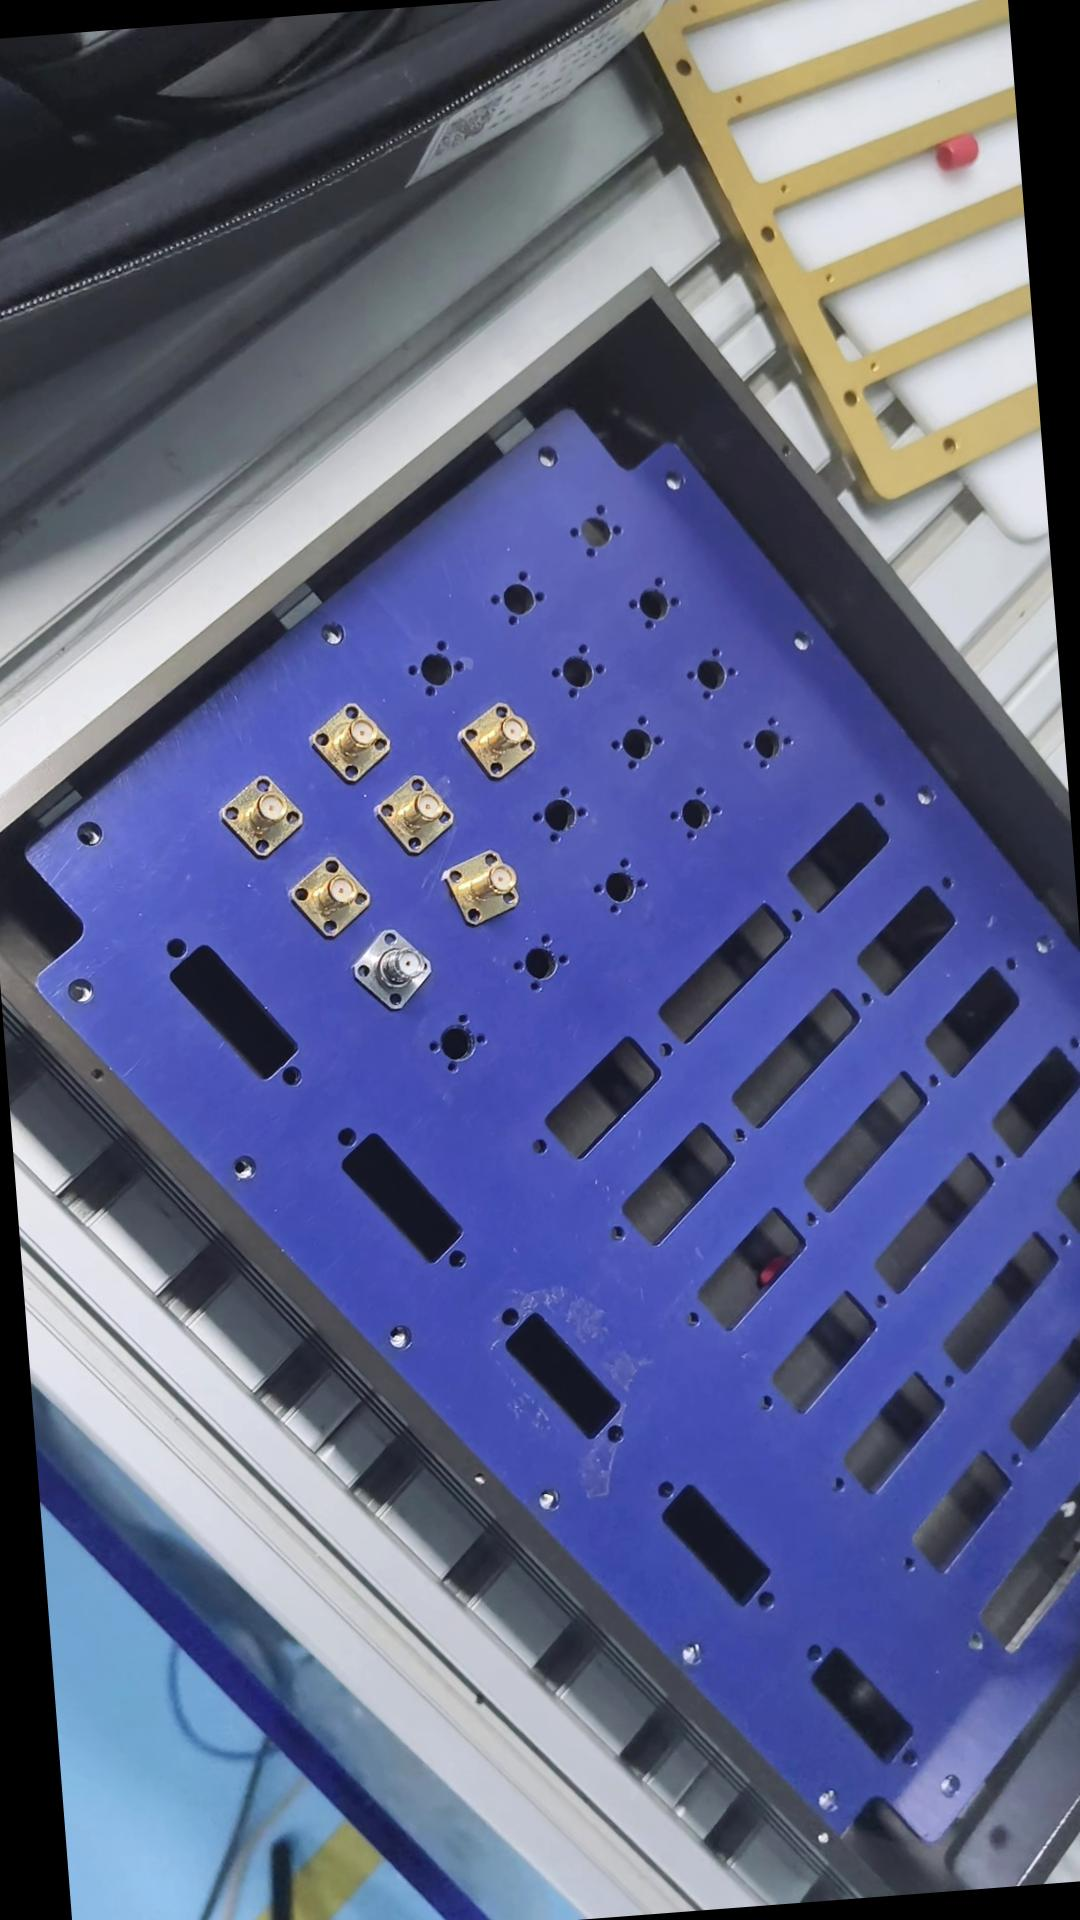SMA: (173, 853, 287, 968), (262, 907, 377, 1018), (349, 955, 462, 1065), (239, 760, 348, 865), (382, 708, 488, 818), (324, 804, 429, 911), (417, 858, 516, 957)
